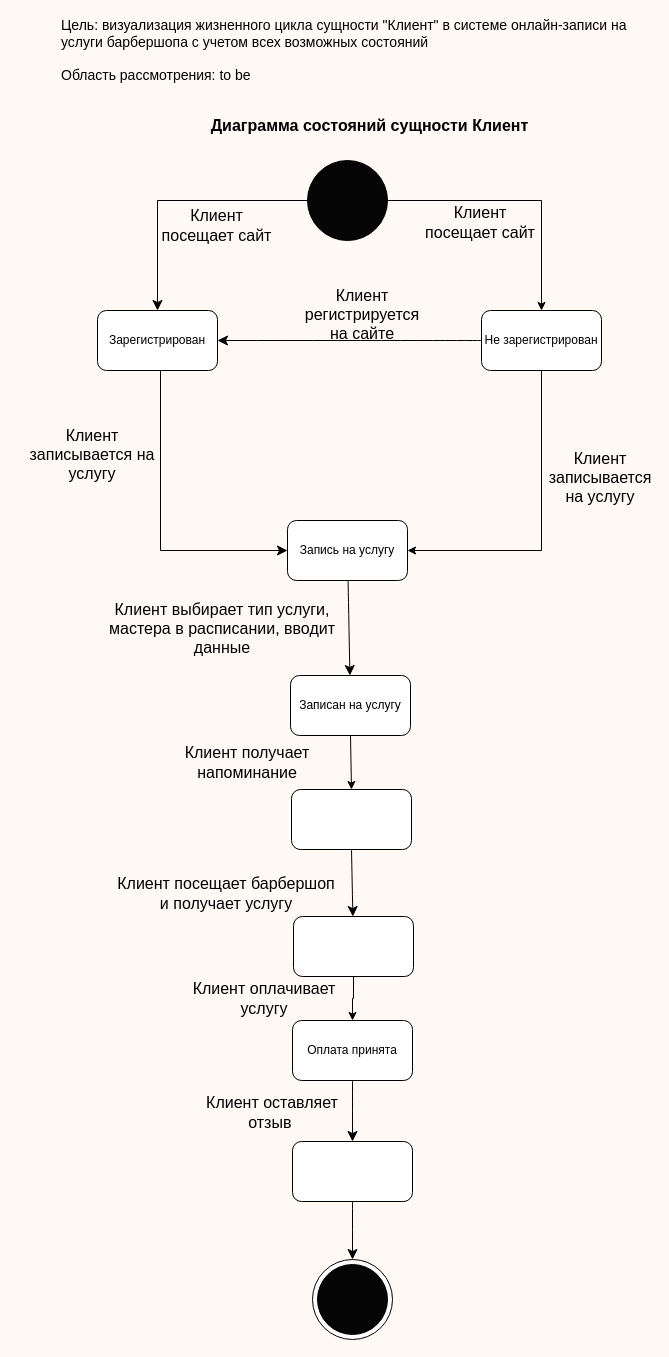
This 669x1357 diagram has some shape labels left out. The shapes that lost their labels are listed below. From the top down, each one's centre as x and y in pixels, then its label:
point 351,819: Уведомление
point 353,946: Получил услугу
point 352,1171: Отзыв на сайте
